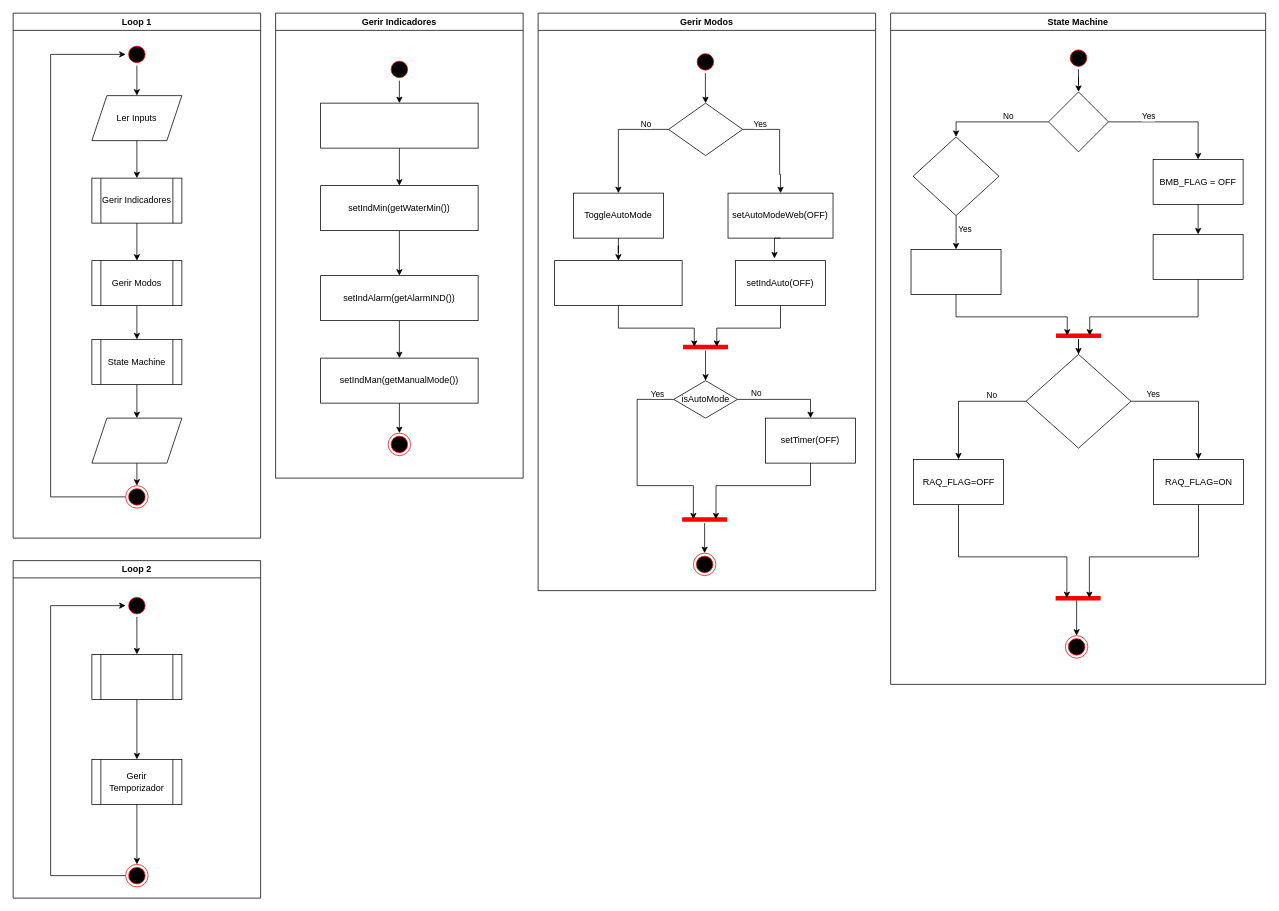
Some shapes in this 1279 by 911 pixel diagram are drawn without their labels. Each missing label, with the centre of its shape:
"BMB_FLAG = ON" goes at (x=955, y=271).
"Escrever Outputs" goes at (x=136, y=440).
"isManualMode" goes at (x=705, y=129).
"isWaterMax" goes at (x=1078, y=121).
"isWaterMax or isWaterMin or !isAlarm" goes at (x=1078, y=401).
"isWaterMin or isAlarm" goes at (x=955, y=176).
"Limpar Clientes do WebSocket" goes at (x=136, y=676).
"setIndAuto(getAutoModeWeb)" goes at (x=618, y=283).
"setIndMax(getWaterMax())" goes at (x=399, y=125).
"setPumpWeb(OFF)" goes at (x=1197, y=256).
